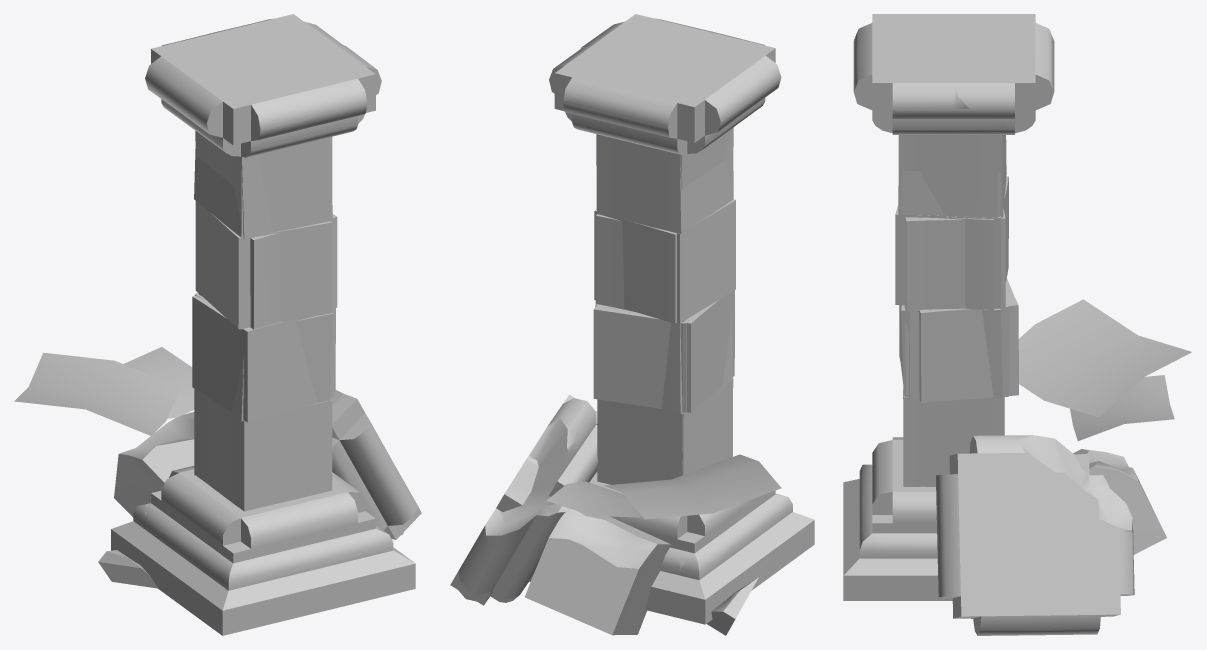
File: Jungle_Pillar.fbx
3 views of the same model, side by side, from view 1: azimuth 30°, elevation 25°; view 2: azimuth 150°, elevation 25°; view 3: azimuth 270°, elevation 25° (orthographic).
Parts seen in each view (by area): view 1: Pillar_TrimTest, Pillar_TrimTest3, Pillar_TrimTest1, Pillar_TrimTest2, Pillar_TrimTest4; view 2: Pillar_TrimTest2, Pillar_TrimTest1, Pillar_TrimTest, Pillar_TrimTest3, Pillar_TrimTest4; view 3: Pillar_TrimTest2, Pillar_TrimTest3, Pillar_TrimTest, Pillar_TrimTest4, Pillar_TrimTest1.
Boxes of the visible parts, x1=… form: Pillar_TrimTest: x1=111, y1=14, x2=388, y2=635; Pillar_TrimTest3: x1=98, y1=16, x2=397, y2=601; Pillar_TrimTest1: x1=111, y1=34, x2=415, y2=635; Pillar_TrimTest2: x1=111, y1=221, x2=421, y2=601; Pillar_TrimTest4: x1=14, y1=347, x2=194, y2=436; Pillar_TrimTest2: x1=450, y1=209, x2=814, y2=635; Pillar_TrimTest1: x1=530, y1=14, x2=804, y2=624; Pillar_TrimTest: x1=529, y1=14, x2=814, y2=624; Pillar_TrimTest3: x1=529, y1=15, x2=793, y2=635; Pillar_TrimTest4: x1=546, y1=454, x2=781, y2=519; Pillar_TrimTest2: x1=843, y1=205, x2=1166, y2=635; Pillar_TrimTest3: x1=843, y1=14, x2=1053, y2=594; Pillar_TrimTest: x1=847, y1=14, x2=1054, y2=562; Pillar_TrimTest4: x1=1018, y1=299, x2=1191, y2=440; Pillar_TrimTest1: x1=843, y1=14, x2=1035, y2=575.
Size of the model in its own units: 355 by 525 by 313.
